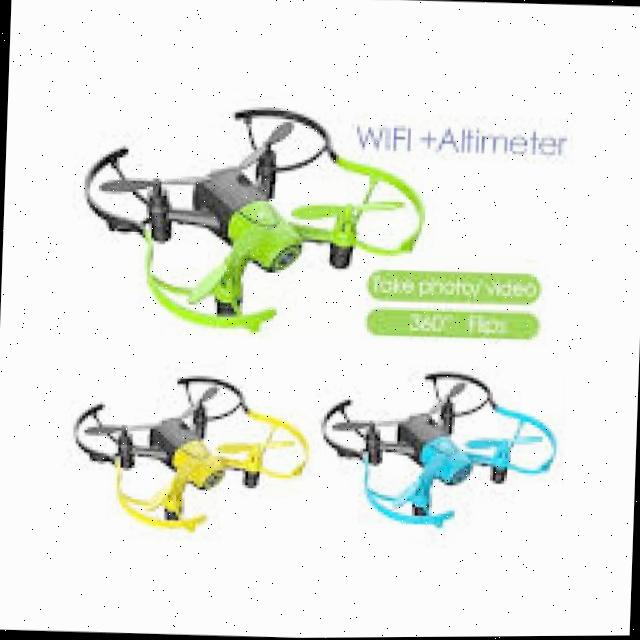drone: (61, 88, 438, 330), (56, 346, 313, 547), (319, 371, 570, 538)
